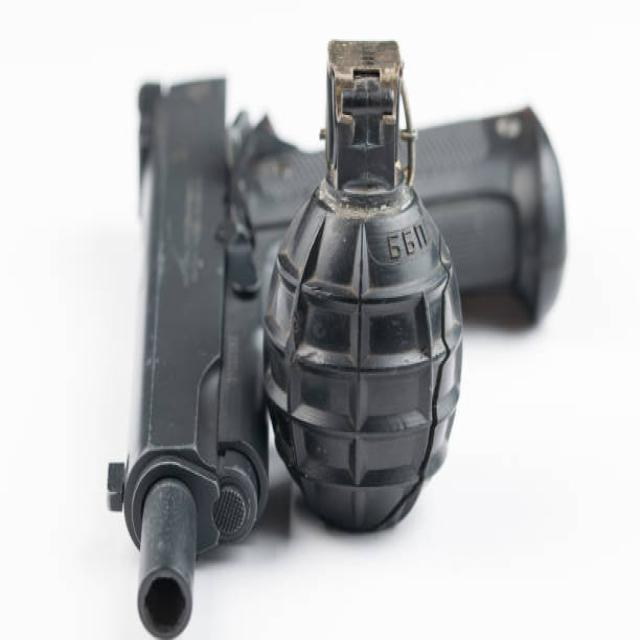grenade: (260, 21, 470, 549)
